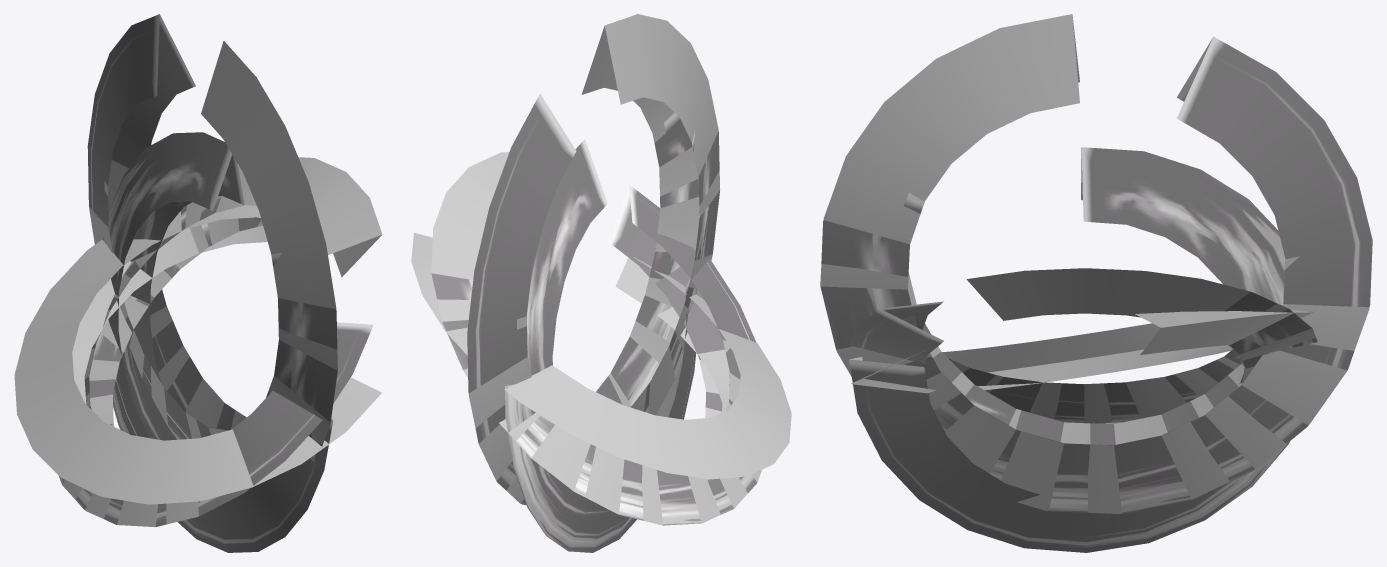
File: Eff_Atroce_skill_0_Action.FBX
3 renders of one model, left to right at view 1: azimuth 30°, elevation 25°; view 2: azimuth 150°, elevation 25°; view 3: azimuth 270°, elevation 25°, orthographic. The views are drawn at different scales.
Parts seen in each view (by area): view 1: Eff_sword02_trail002, Eff_sword02_trail003, Eff_sword02_trail, Eff_sword02_trail001; view 2: Eff_sword02_trail003, Eff_sword02_trail002, Eff_sword02_trail, Eff_sword02_trail001; view 3: Eff_sword02_trail003, Eff_sword02_trail002, Eff_sword02_trail001, Eff_sword02_trail.
Part boxes in pixels (left/top/right/bottom): Eff_sword02_trail002: left=14, top=132, right=381, bottom=552; Eff_sword02_trail003: left=87, top=14, right=337, bottom=463; Eff_sword02_trail: left=62, top=157, right=382, bottom=526; Eff_sword02_trail001: left=59, top=217, right=373, bottom=526; Eff_sword02_trail003: left=467, top=14, right=720, bottom=505; Eff_sword02_trail002: left=411, top=139, right=791, bottom=552; Eff_sword02_trail: left=431, top=152, right=761, bottom=525; Eff_sword02_trail001: left=616, top=184, right=757, bottom=525; Eff_sword02_trail003: left=820, top=14, right=1372, bottom=513; Eff_sword02_trail002: left=849, top=147, right=1312, bottom=552; Eff_sword02_trail001: left=849, top=268, right=1315, bottom=424; Eff_sword02_trail: left=880, top=268, right=1317, bottom=423.
Bounding box in the file's own units: 2.08 × 3.15 × 2.87.
